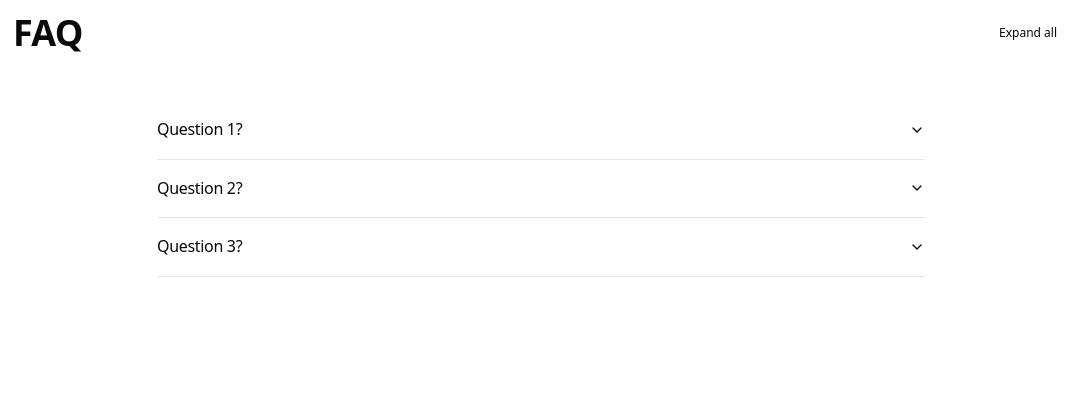
FAQ › clicking Expand all opens every question
The width and height of the screenshot is (1087, 410).
Click the button "Expand all". click: {"x": 1028, "y": 33}
box: [987, 17, 1069, 49]
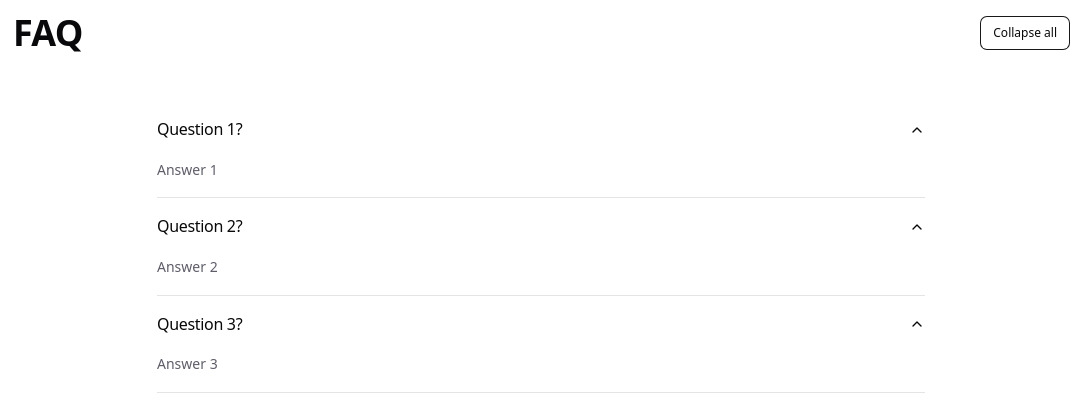
Expected: the text "Answer 1" is shown, [157, 160, 218, 179]
Expected: the text "Answer 2" is shown, [157, 257, 218, 276]
Expected: the text "Answer 3" is shown, [157, 354, 218, 373]
